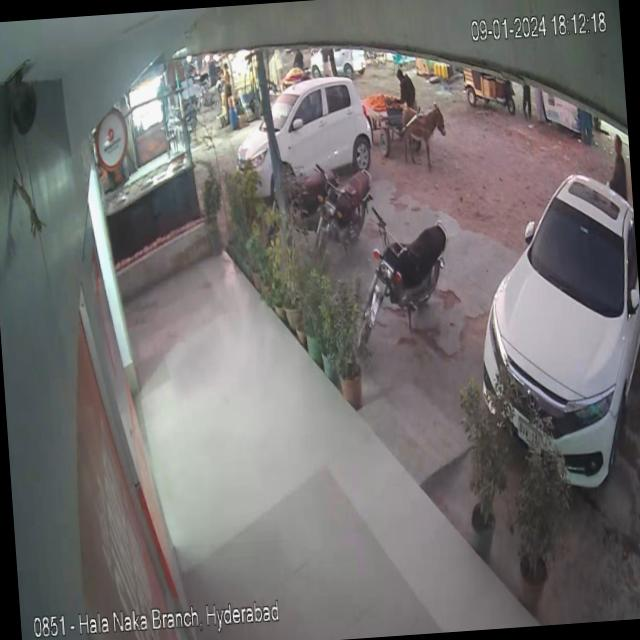Car: (463, 126, 640, 507), (210, 62, 378, 190)
Motorcycle: (346, 190, 464, 356), (312, 158, 382, 251)
